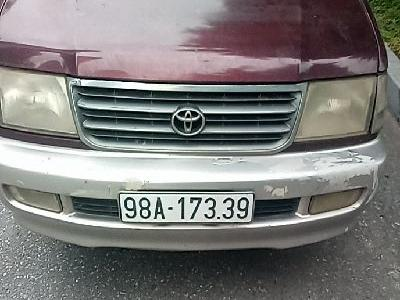car: (118, 191, 255, 224)
